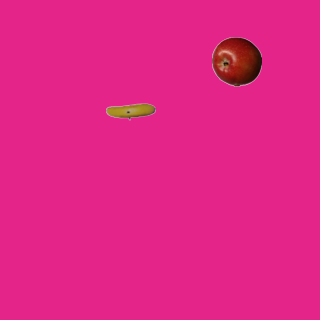Apple Braeburn: (211, 36, 261, 86)
Banana: (105, 86, 155, 136)
